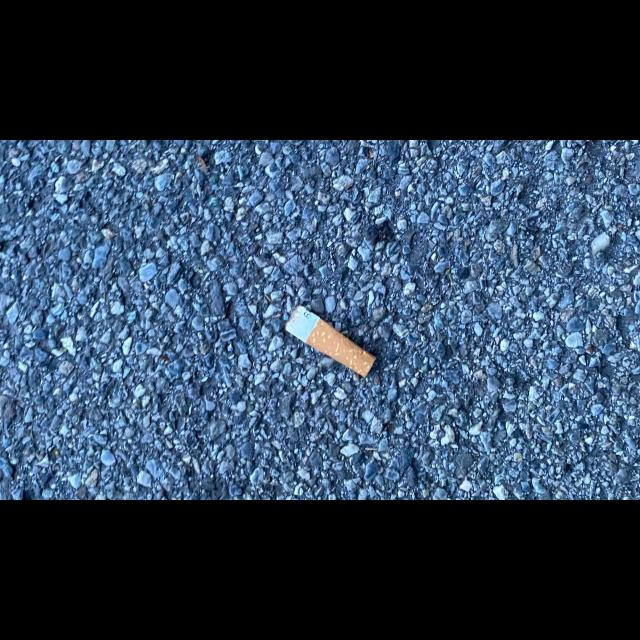cigarette: (284, 304, 377, 379)
